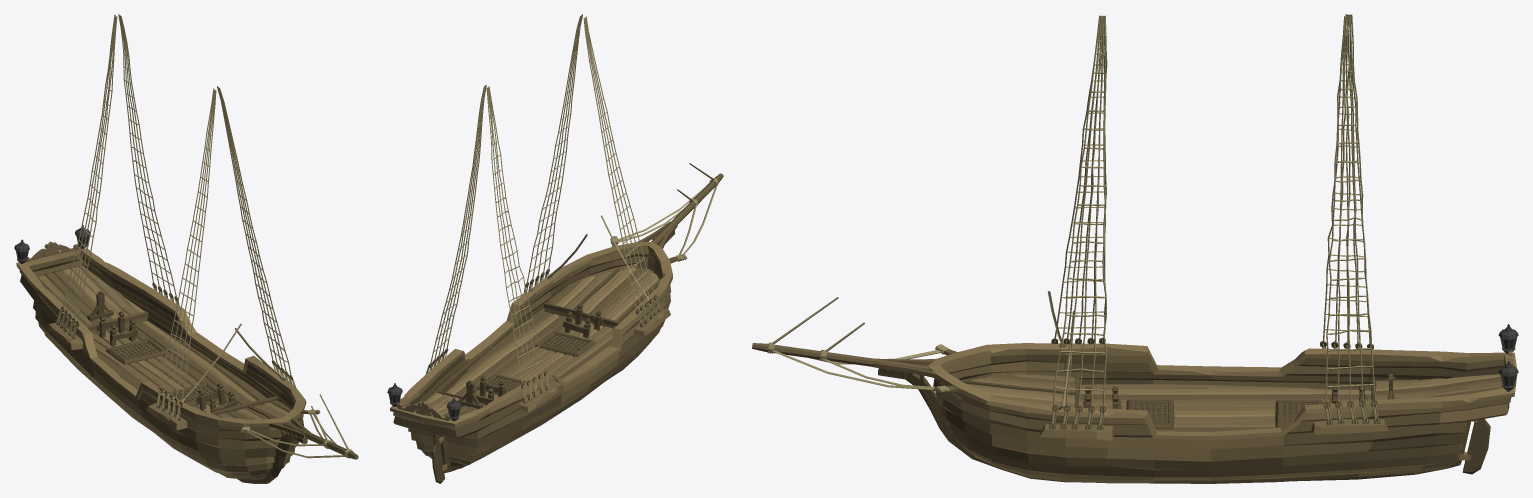
File: MediumShip_3.fbx
3 views of the same model, side by side, from view 1: azimuth 30°, elevation 25°; view 2: azimuth 150°, elevation 25°; view 3: azimuth 270°, elevation 25° (orthographic). The views are drawn at different scales.
Visible parts, largest first — view 1: MediumShip_3; view 2: MediumShip_3; view 3: MediumShip_3.
Boxes of the visible parts, x1=… form: MediumShip_3: x1=14, y1=14, x2=358, y2=483; MediumShip_3: x1=387, y1=14, x2=723, y2=483; MediumShip_3: x1=752, y1=14, x2=1518, y2=483.
Bounding box in the file's own units: 691 × 1834 × 2717.
